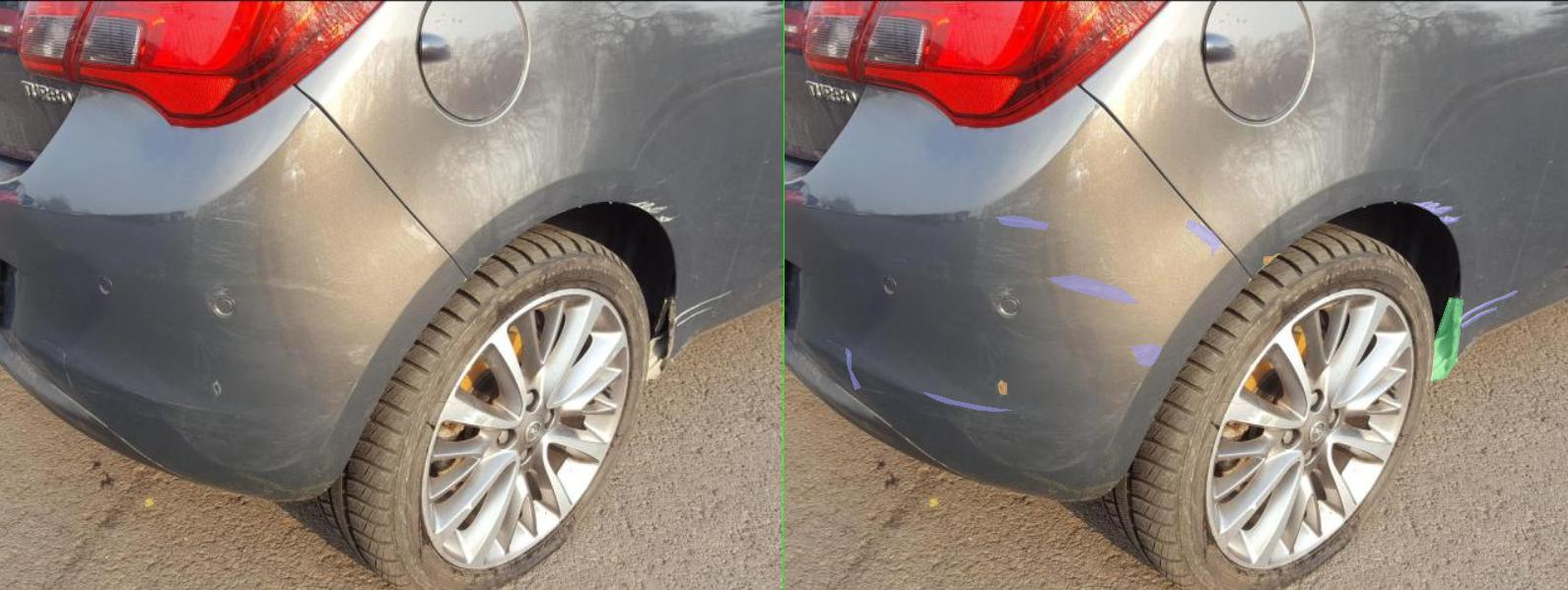Broken part: (1296, 297, 1357, 380)
Paint chip: (959, 253, 992, 265), (428, 380, 444, 394)
Scratch: (523, 275, 708, 302), (278, 392, 454, 411), (1353, 291, 1465, 320), (803, 220, 874, 255), (1355, 307, 1424, 328), (422, 216, 529, 229), (122, 348, 152, 389), (694, 345, 753, 365), (1258, 201, 1335, 215), (1310, 217, 1351, 224)
